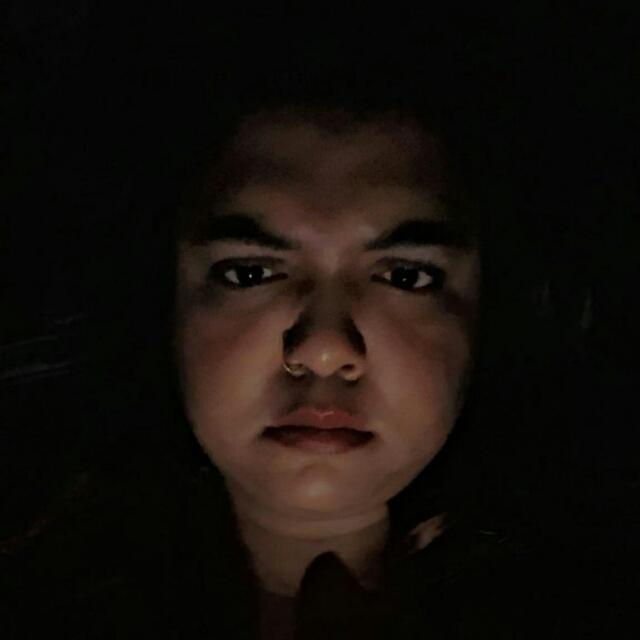Angry: (145, 150, 552, 574)
